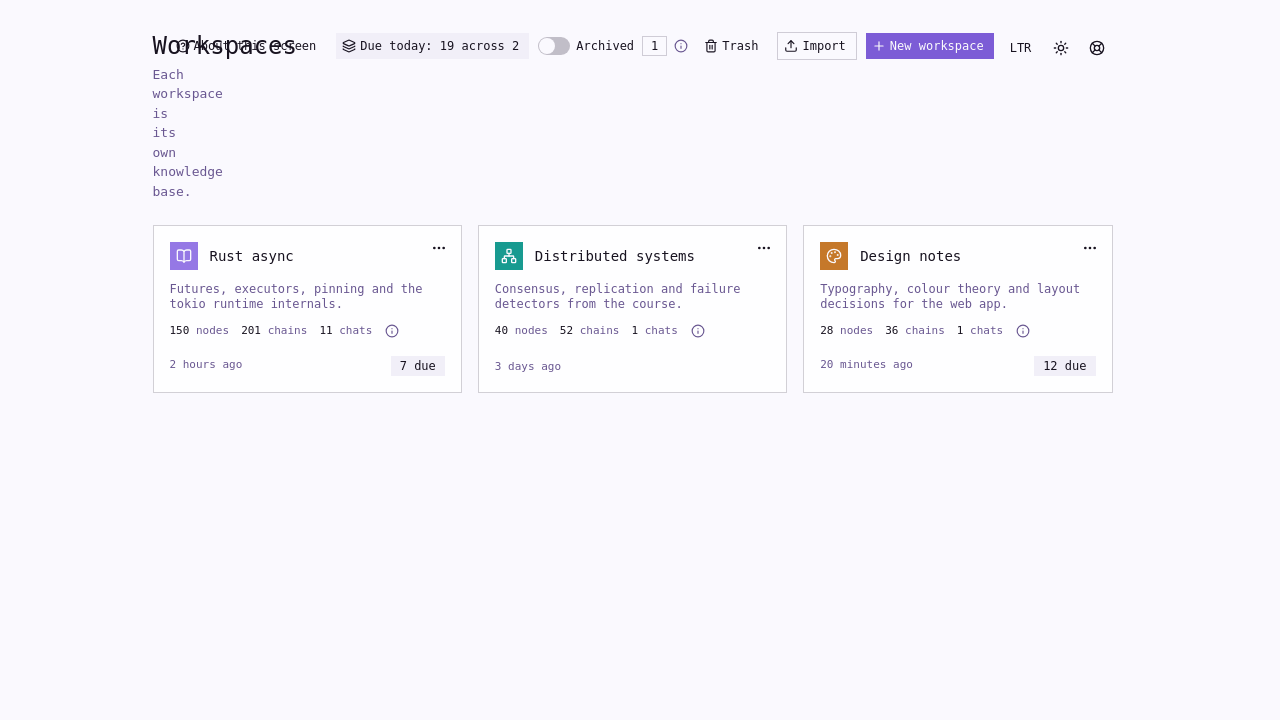
Test: create and edit › maps server field errors onto the form
Click the button with test id "new-workspace" at (930, 46), box x1=865 y1=32 x2=995 y2=60
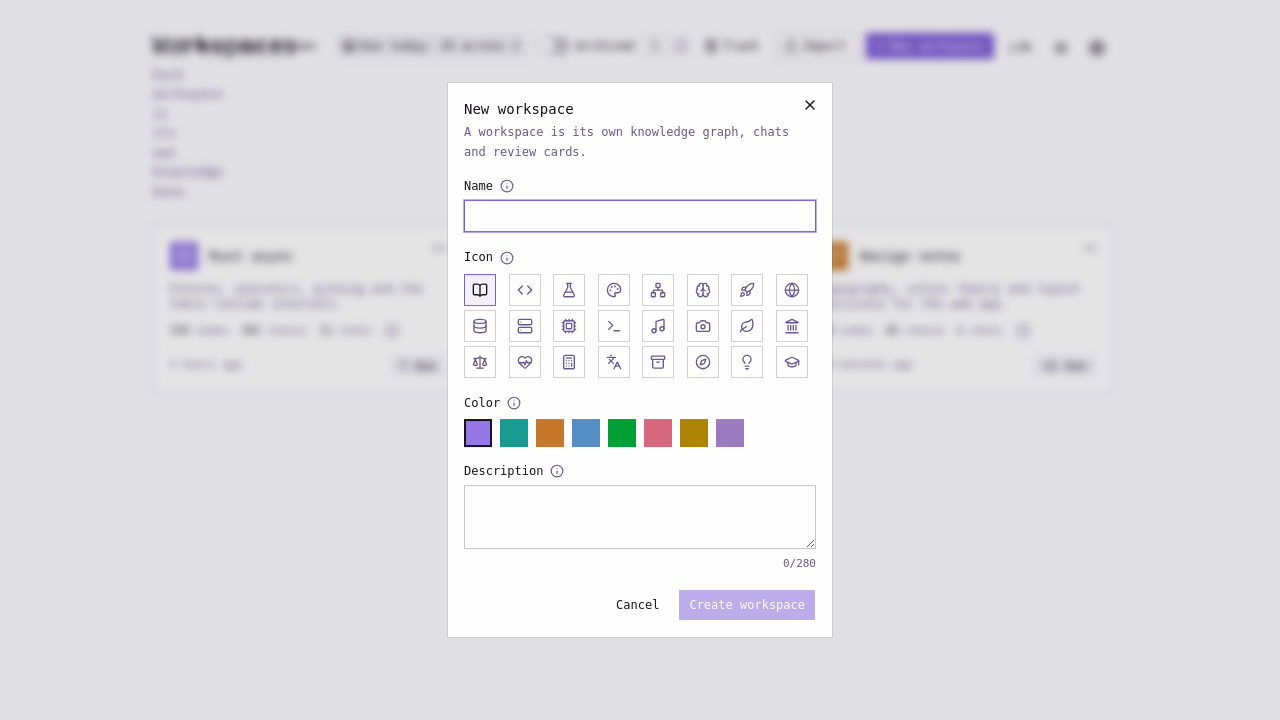
Type "Admin" into the field with test id "ws-name-input" at (640, 216), box x1=464 y1=200 x2=816 y2=232
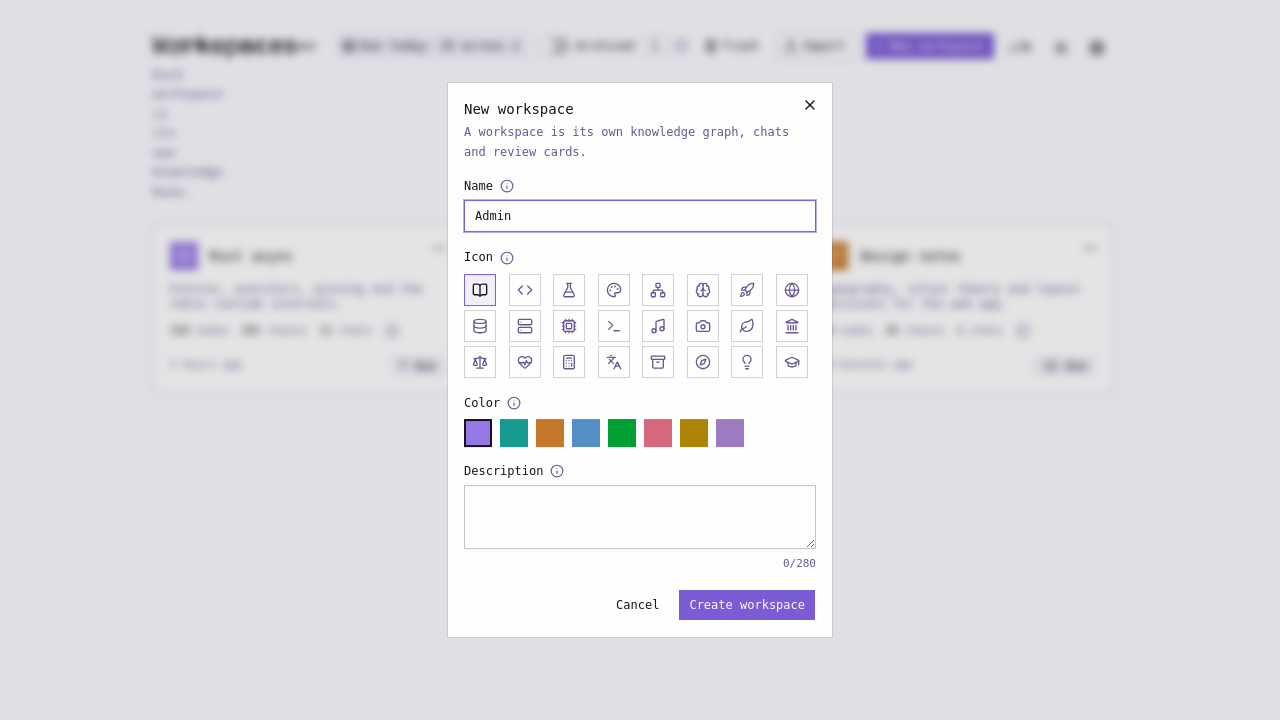
Now the button with test id "ws-submit" is enabled
Click the button with test id "ws-submit" at (747, 605), box x1=678 y1=589 x2=816 y2=621
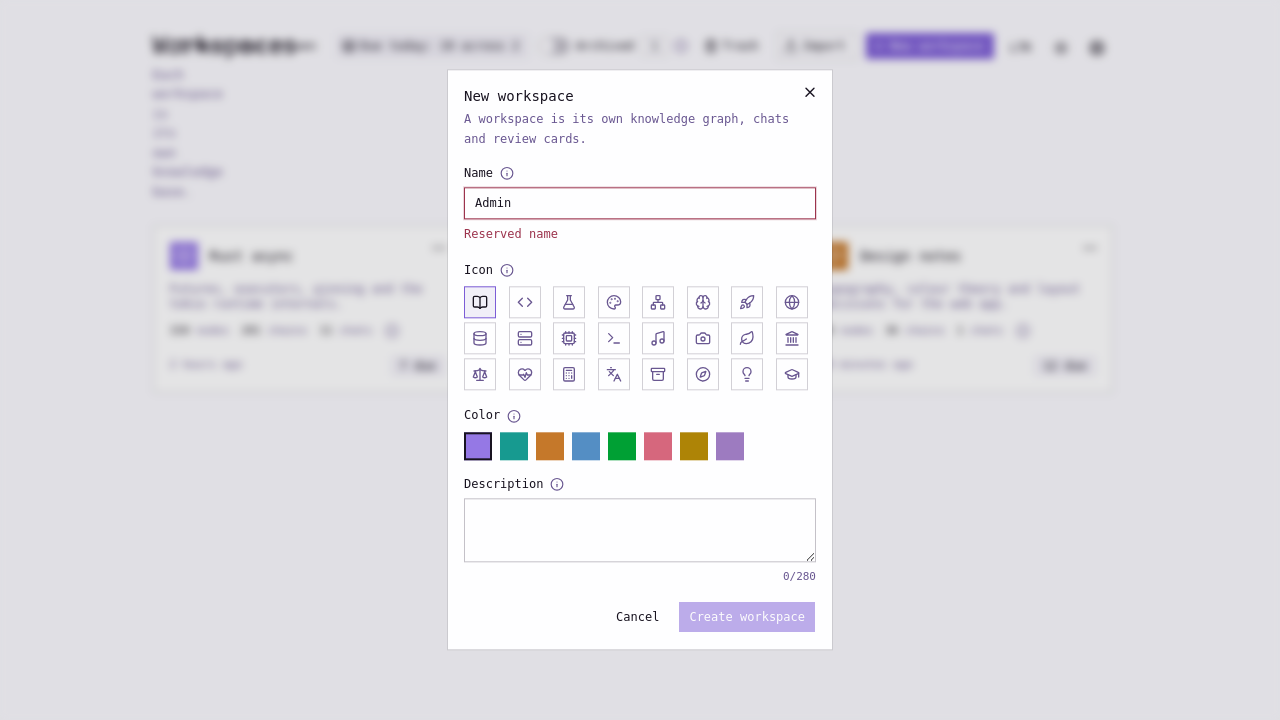
Now the dialog with test id "workspace-dialog" is shown, box x1=448 y1=70 x2=832 y2=650
Now the message with test id "ws-name-error" reads "Reserved name", box x1=464 y1=227 x2=558 y2=241
